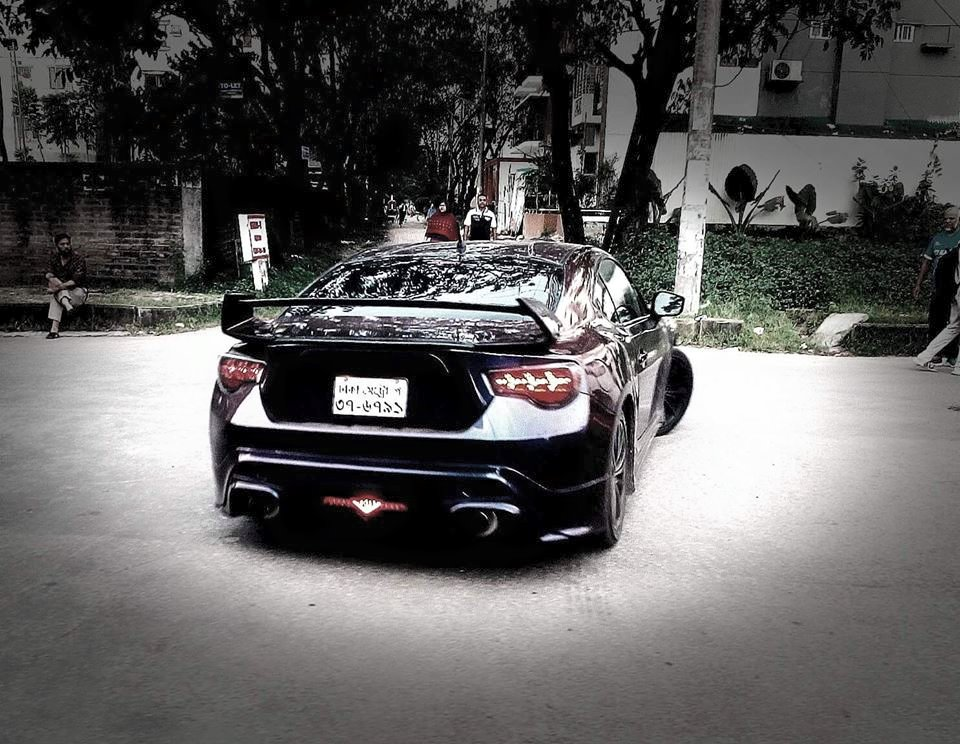registration_plate: (332, 375, 409, 418)
